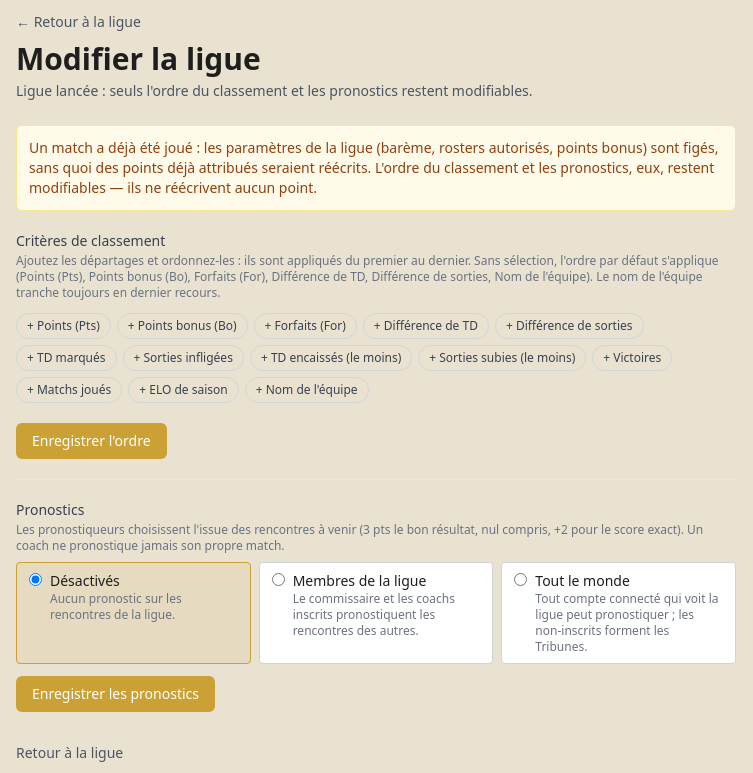
Test: EditLeaguePage › ligue verrouillée : un refus serveur est affiché, pas avalé
expect the button with test id "locked-settings-submit" is shown: met, box [16,423,166,459]
Click the button with test id "league-tiebreak-add-points" at (63, 326), box [16,313,111,339]
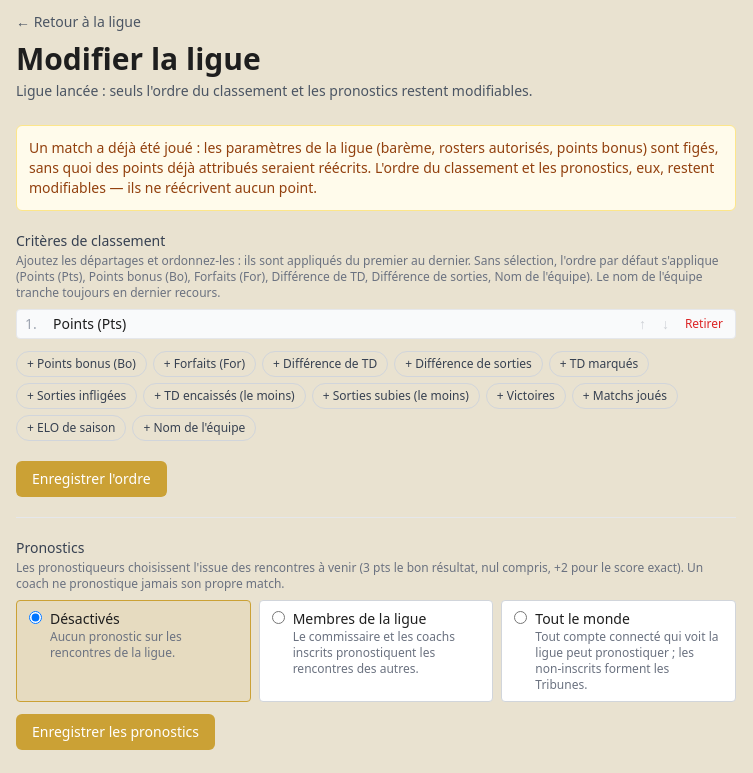
Click the button with test id "locked-settings-submit" at (91, 479), box [16,461,166,497]
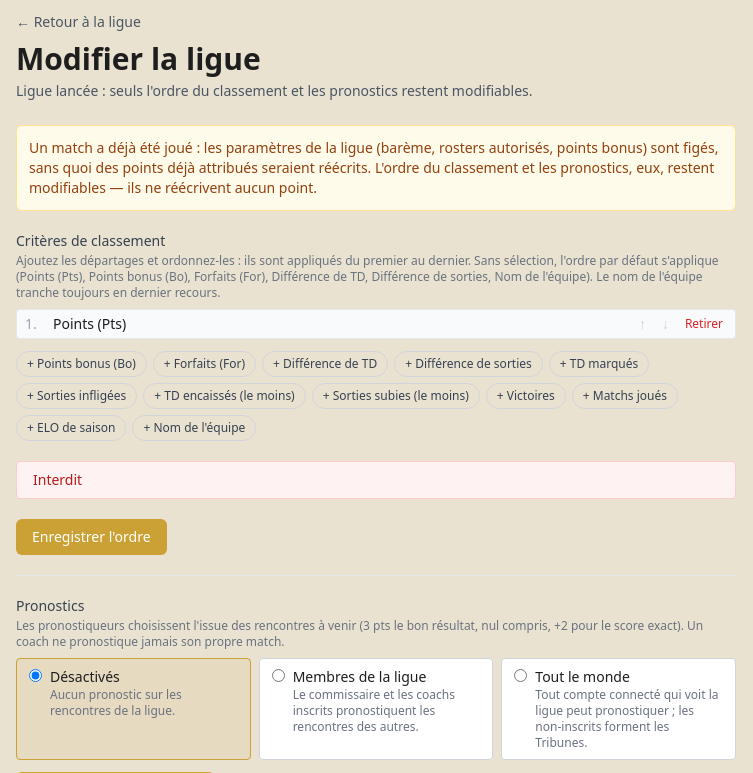
expect the text "Interdit" is shown: met, box [16,461,736,499]
